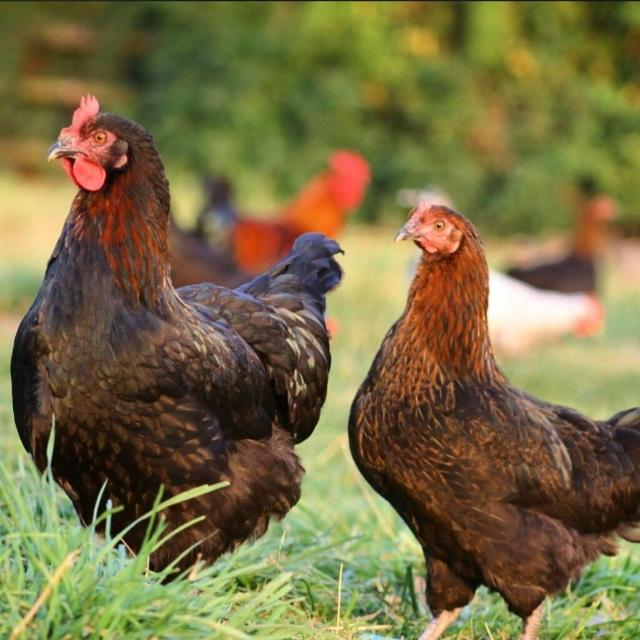Chicken: (11, 93, 344, 580), (347, 198, 640, 640)
